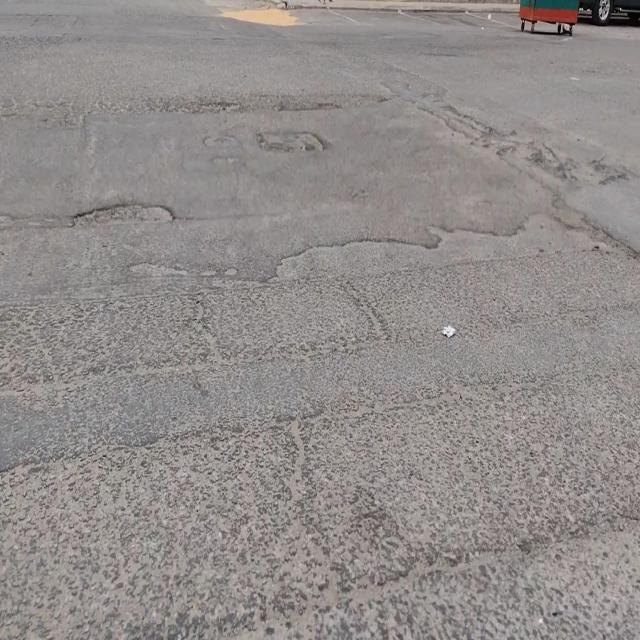Potholes: (71, 198, 174, 227), (257, 127, 328, 157)
